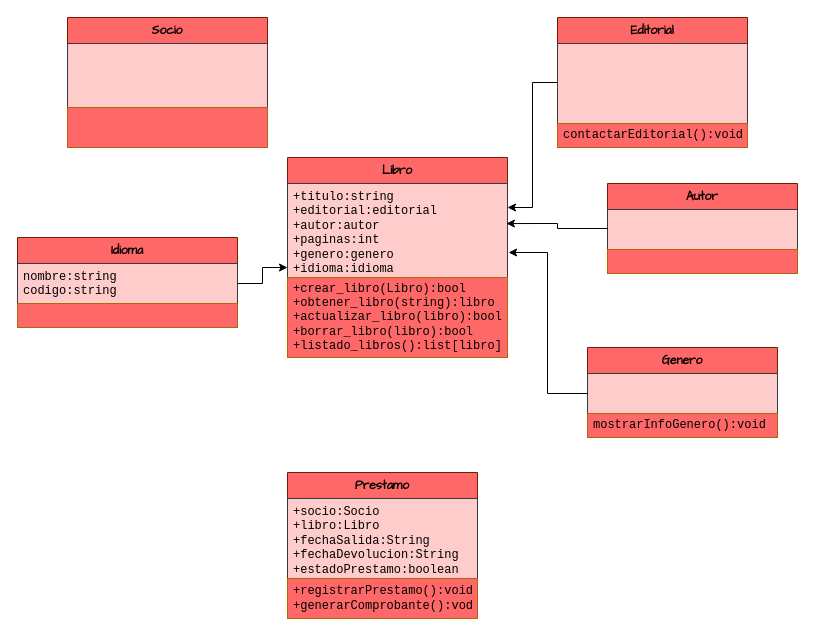
This 815x636 diagram has some shape labels left out. Each missing label, with the centre of its shape:
"+habilitarSocio():void +verificarEstado():boolean" goes at (167,127).
"+nombre:string +direccion:string +correo:string +telefono:string +web:string" goes at (652,83).
"+numeroSocio:int +nombre:string +rut:String +multaActiva:boolean" goes at (167,75).
"mostrarBiografia():void" goes at (702,261).
"nombre:string descripcion:string" goes at (682,393).
"nombre:string nacionalidad:string" goes at (702,229).
"obtenerNombreIdioma():string" goes at (127,315).
